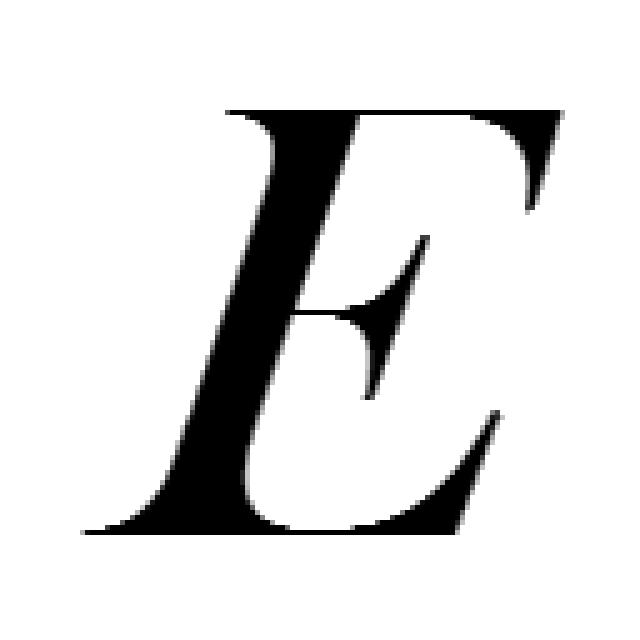E: (80, 110, 565, 535)
